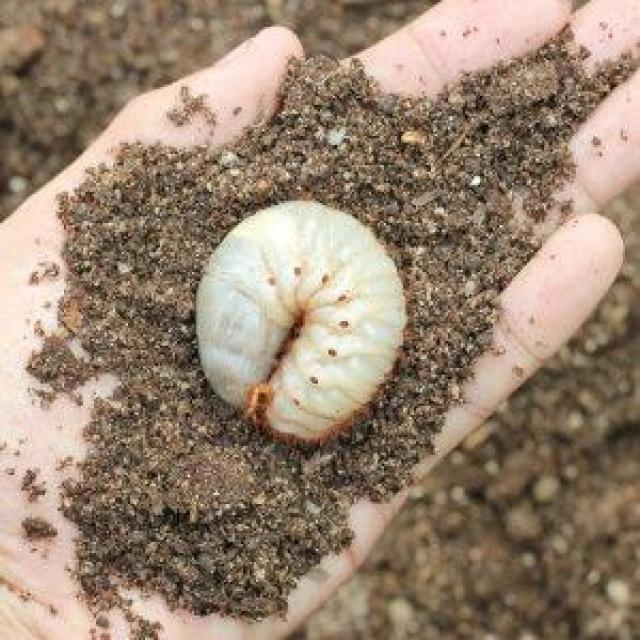grub: (194, 196, 410, 439)
